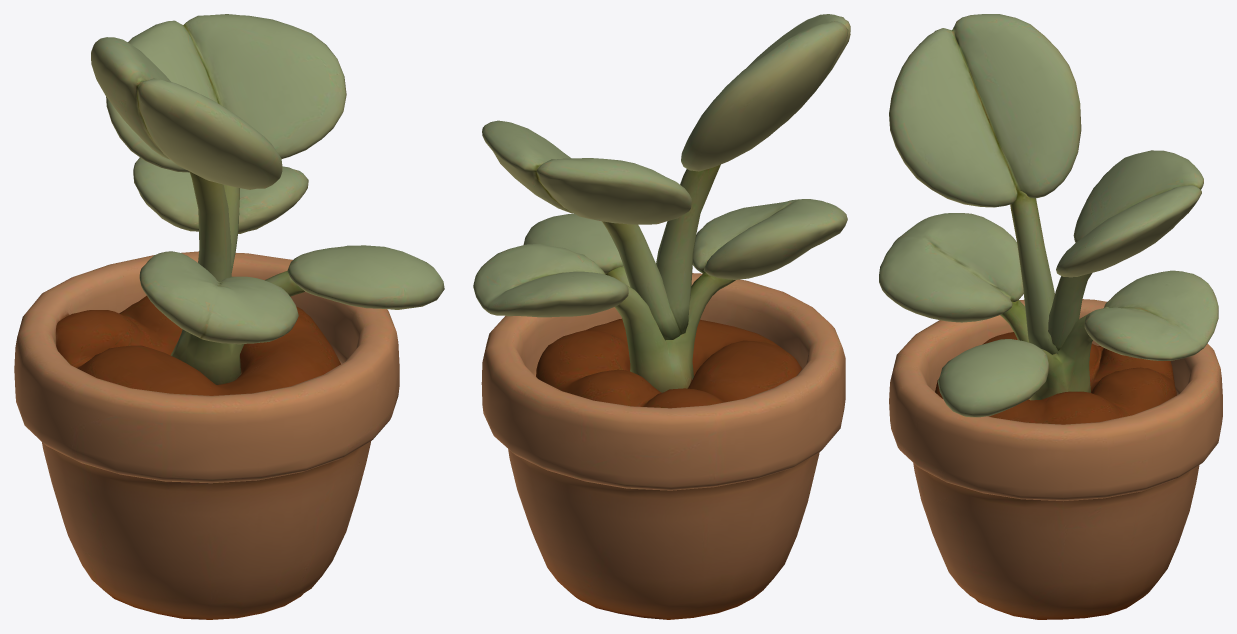
Rendered from plant.glb.
The picture shows the model from 3 angles, left to right: view 1: azimuth 30°, elevation 25°; view 2: azimuth 150°, elevation 25°; view 3: azimuth 270°, elevation 25°; orthographic projection. The views are drawn at different scales.
Visible parts, largest first — view 1: tripo_node_7eecd071-4338-4221-8759-f19d464904e6; view 2: tripo_node_7eecd071-4338-4221-8759-f19d464904e6; view 3: tripo_node_7eecd071-4338-4221-8759-f19d464904e6.
Part boxes in pixels (x1,y1,x2,y2): tripo_node_7eecd071-4338-4221-8759-f19d464904e6: (14, 14, 444, 619); tripo_node_7eecd071-4338-4221-8759-f19d464904e6: (473, 14, 850, 619); tripo_node_7eecd071-4338-4221-8759-f19d464904e6: (879, 14, 1222, 619).
Size of the model in its own units: 0.6309 by 0.998 by 0.6074.
1 material, 1 textured.
